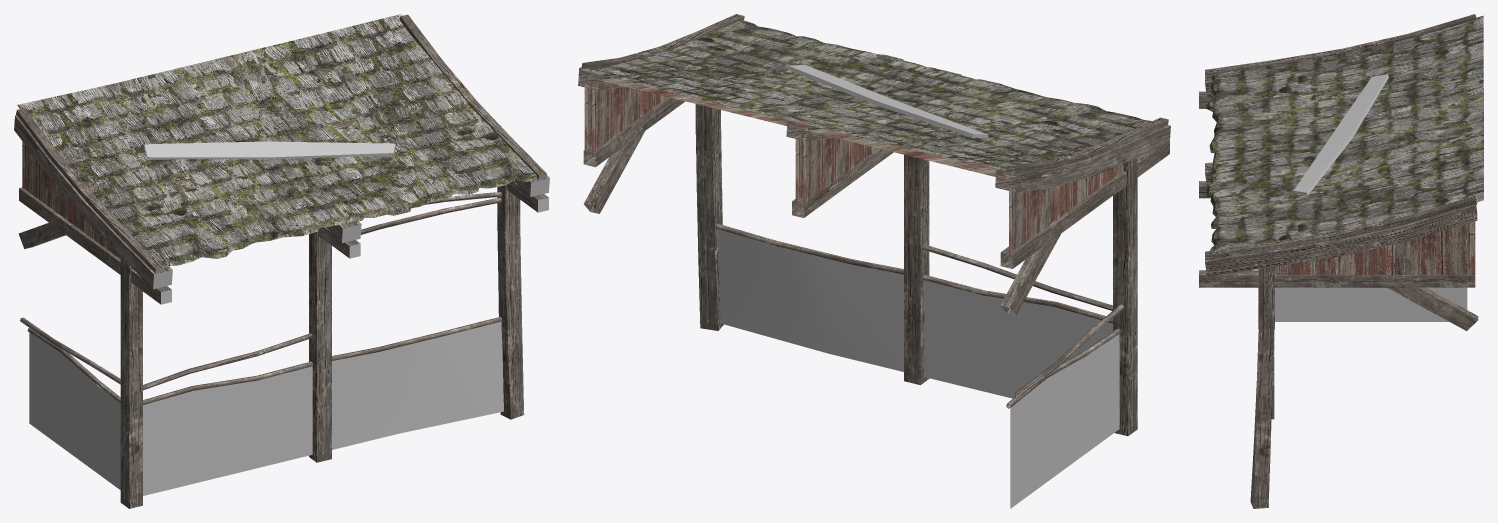
File: Shed1.fbx
3 renders of one model, left to right at view 1: azimuth 30°, elevation 25°; view 2: azimuth 150°, elevation 25°; view 3: azimuth 270°, elevation 25°, orthographic. The views are drawn at different scales.
Visible parts, largest first — view 1: polySurface216; view 2: polySurface216; view 3: polySurface216.
Boxes of the visible parts, x1,y1,x2,y2 form: polySurface216: (14,14,549,508); polySurface216: (578,14,1170,508); polySurface216: (1199,14,1483,508).
Size of the model in its own units: 4.94 by 3.79 by 3.16.
